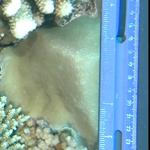alive: (9, 5, 100, 145)
